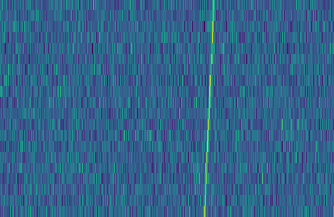signal: (200, 0, 219, 217)
